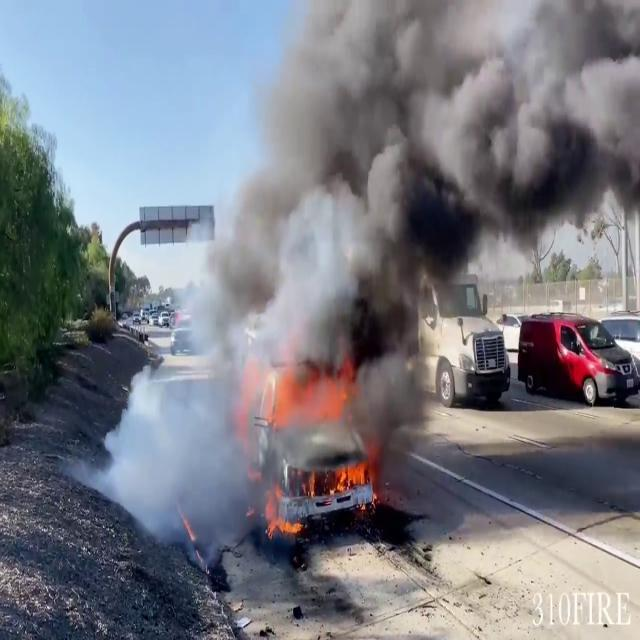Fire: (268, 358, 355, 439), (266, 502, 306, 536), (341, 457, 368, 499)
Smoke: (198, 0, 639, 480), (100, 227, 318, 550)
